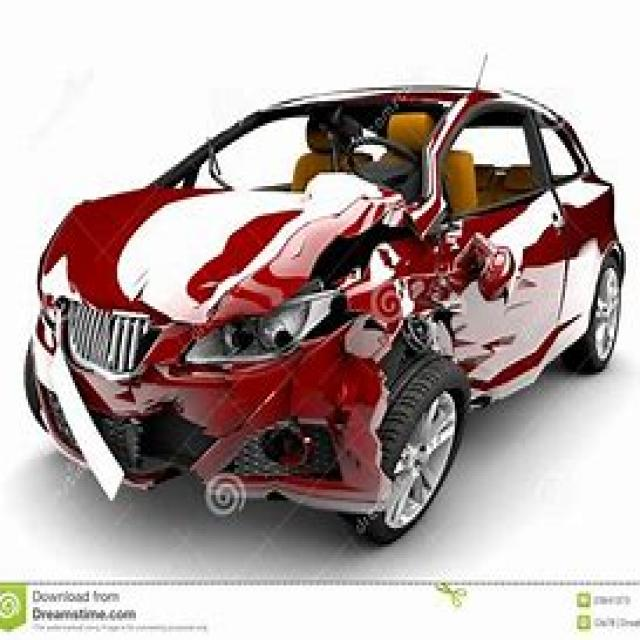Accident: (77, 57, 640, 539)
